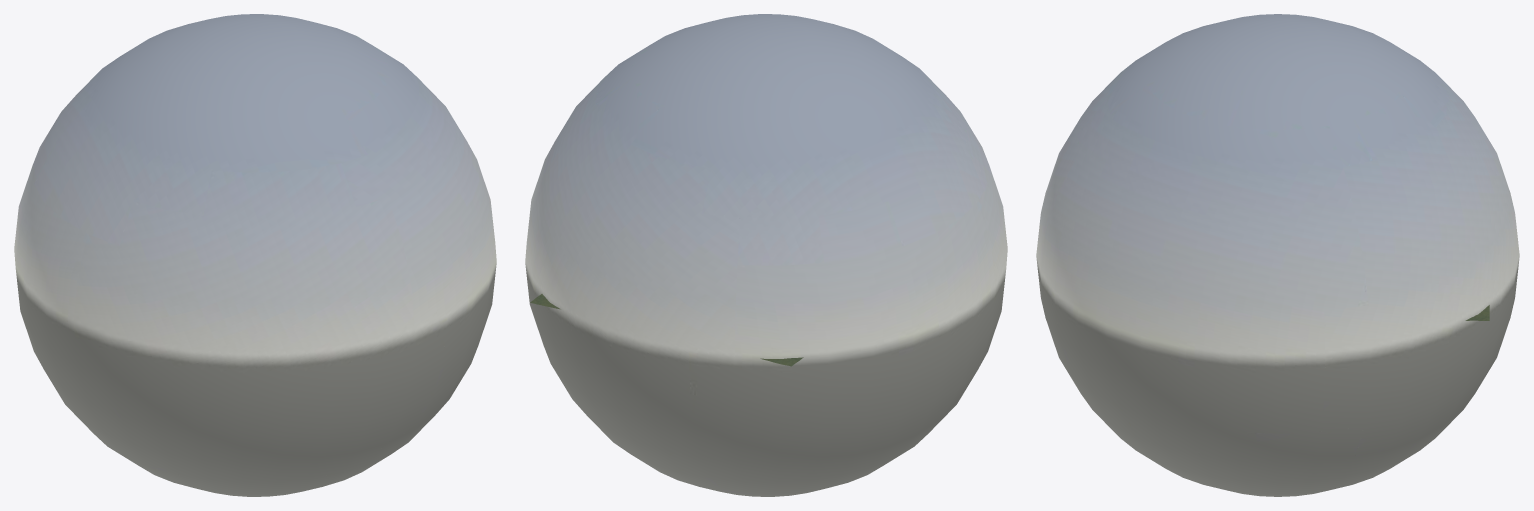
File: room.gltf
The picture shows the model from 3 angles, left to right: view 1: azimuth 30°, elevation 25°; view 2: azimuth 150°, elevation 25°; view 3: azimuth 270°, elevation 25°; orthographic projection.
Visible parts, largest first — view 1: SkyDome; view 2: SkyDome; view 3: SkyDome.
Boxes of the visible parts, x1=… form: SkyDome: x1=14, y1=14, x2=496, y2=496; SkyDome: x1=525, y1=14, x2=1007, y2=496; SkyDome: x1=1036, y1=14, x2=1519, y2=496.
Size of the model in its own units: 320 by 320 by 320.
Materials: 23 (23 with a texture image).
